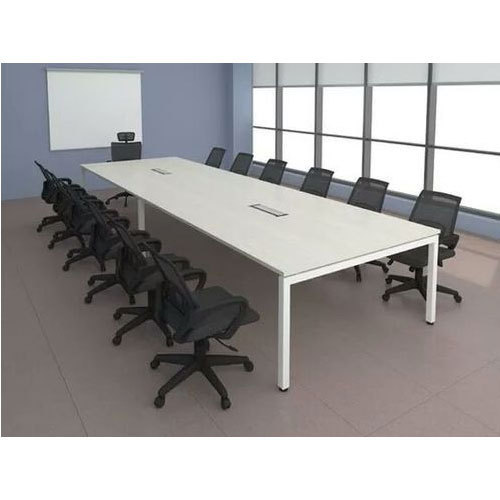conference_table: (80, 157, 439, 392)
